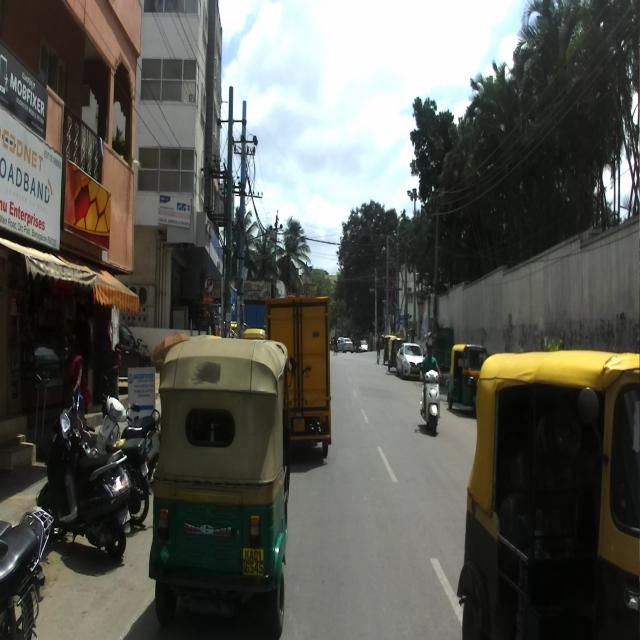autorickshaw: (456, 348, 640, 640), (148, 336, 297, 636)
motorcycle: (67, 388, 153, 525), (0, 508, 54, 640)
scooter: (35, 405, 132, 561), (90, 373, 160, 481), (416, 362, 443, 436)
